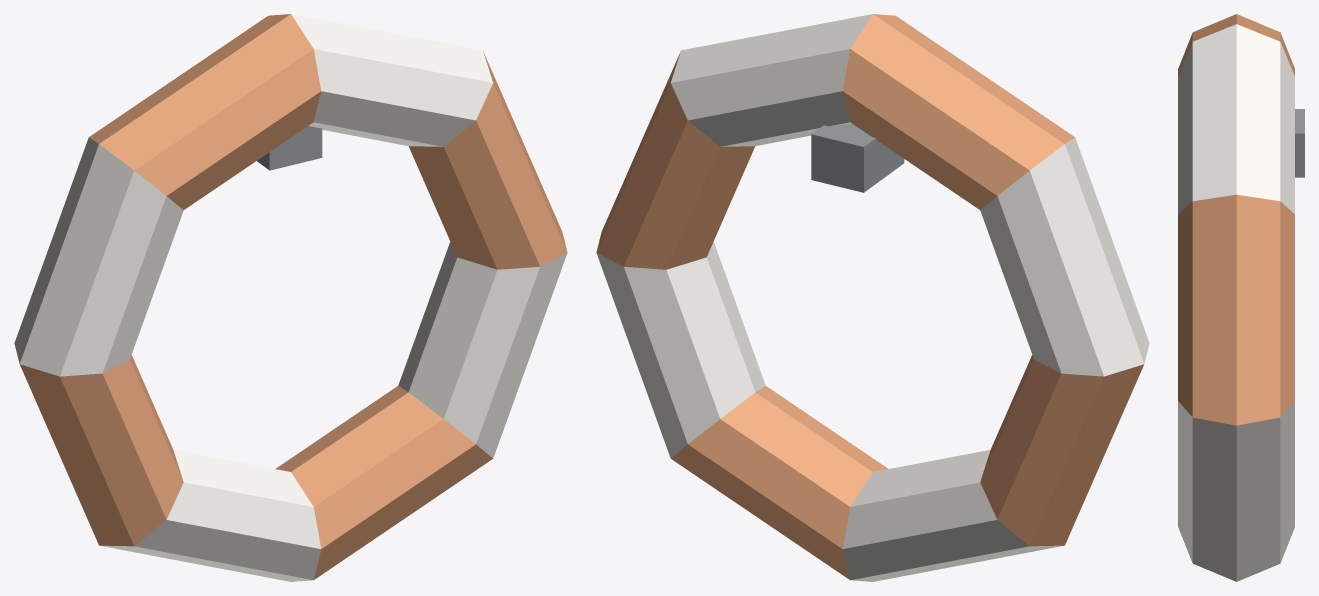
Rendered from lifebuoy_wall.glb.
3 renders of one model, left to right at view 1: azimuth 30°, elevation 25°; view 2: azimuth 150°, elevation 25°; view 3: azimuth 270°, elevation 25°, orthographic. The views are drawn at different scales.
Visible parts, largest first — view 1: lifebuoy_wall_white_u, lifebuoy_wall_orange_u, lifebuoy_wall_steel; view 2: lifebuoy_wall_white_u, lifebuoy_wall_orange_u, lifebuoy_wall_steel; view 3: lifebuoy_wall_white_u, lifebuoy_wall_orange_u, lifebuoy_wall_steel.
Boxes of the visible parts, left/top/right/bottom form: lifebuoy_wall_white_u: left=14, top=14, right=567, bottom=581; lifebuoy_wall_orange_u: left=20, top=14, right=567, bottom=579; lifebuoy_wall_steel: left=257, top=126, right=322, bottom=170; lifebuoy_wall_white_u: left=596, top=14, right=1149, bottom=581; lifebuoy_wall_orange_u: left=596, top=14, right=1143, bottom=579; lifebuoy_wall_steel: left=811, top=124, right=904, bottom=192; lifebuoy_wall_white_u: left=1178, top=24, right=1294, bottom=581; lifebuoy_wall_orange_u: left=1178, top=14, right=1294, bottom=425; lifebuoy_wall_steel: left=1295, top=109, right=1304, bottom=177.
Bounding box in the file's own units: 0.62 × 0.62 × 0.13.
